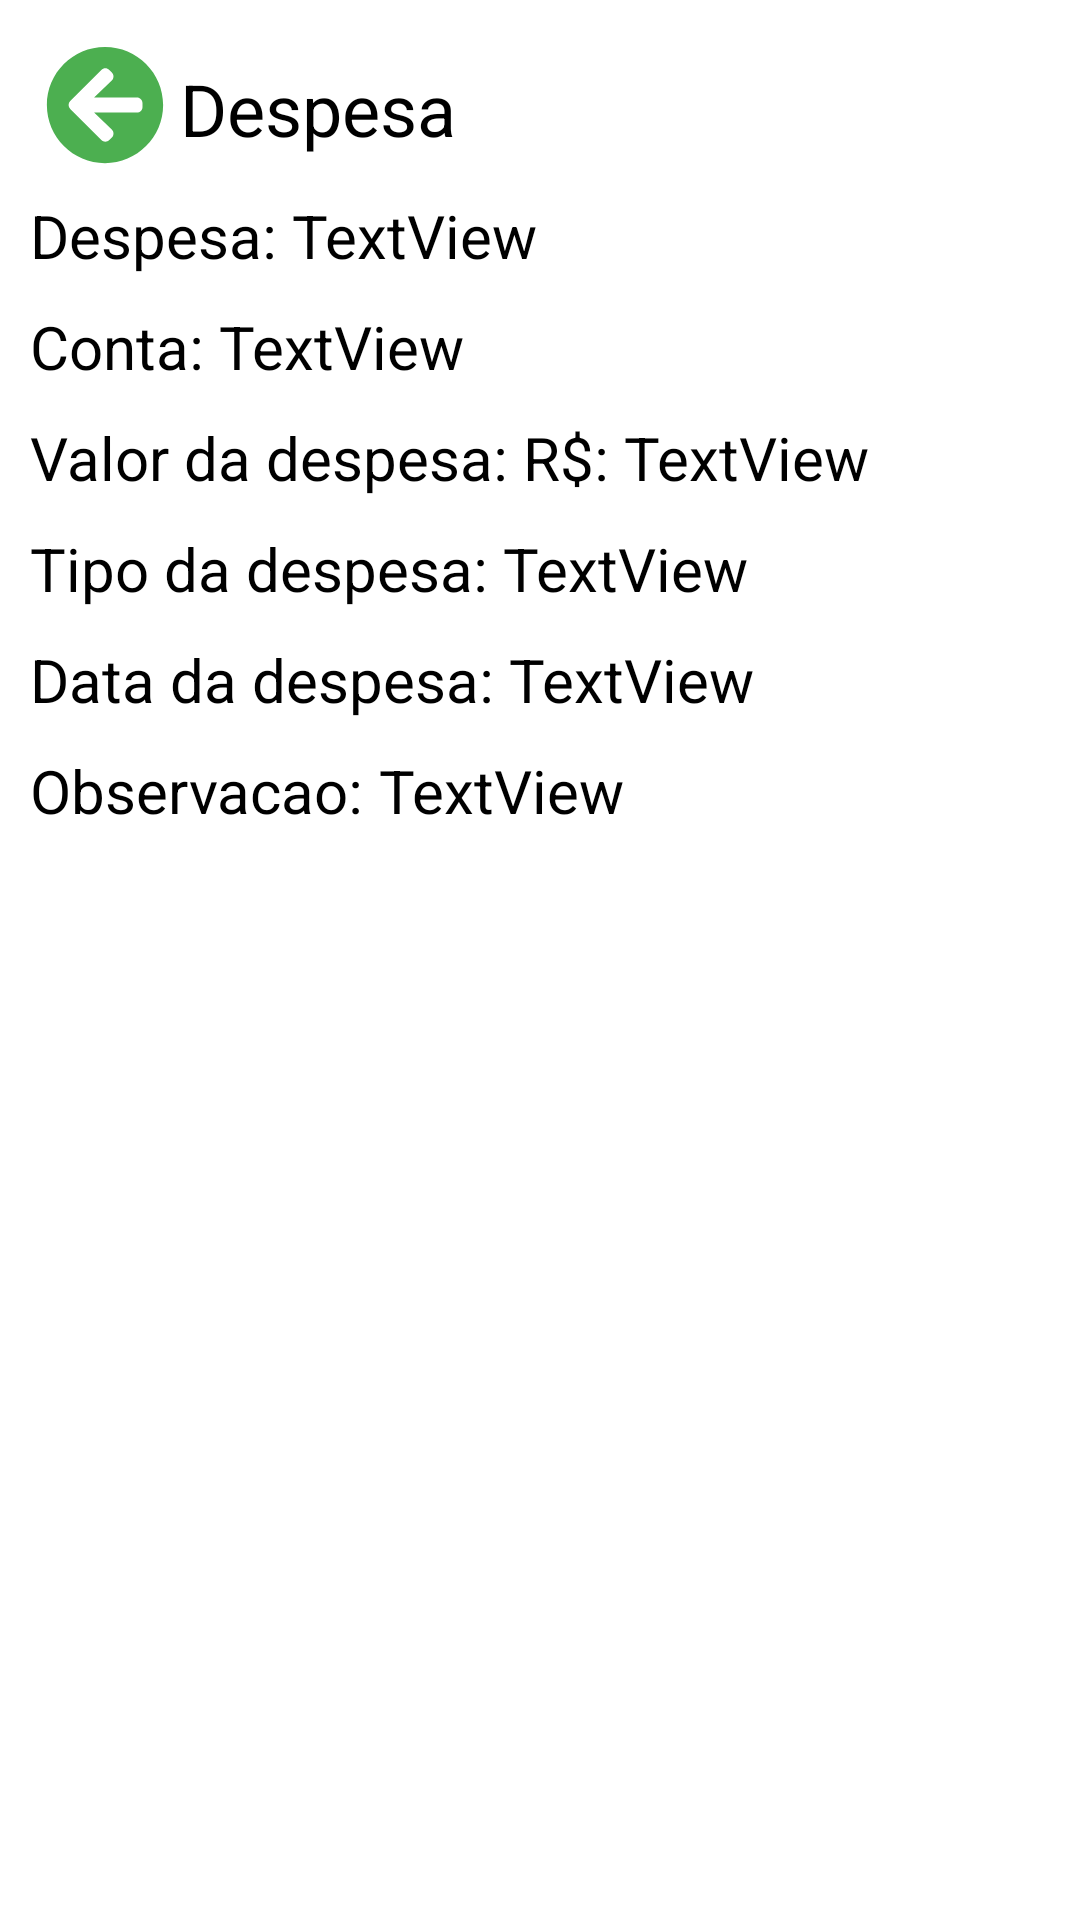

Icons on this 1080x1920 Android screen, each with the point to tap as (x=x, y=y):
voltar: (x=105, y=105)
